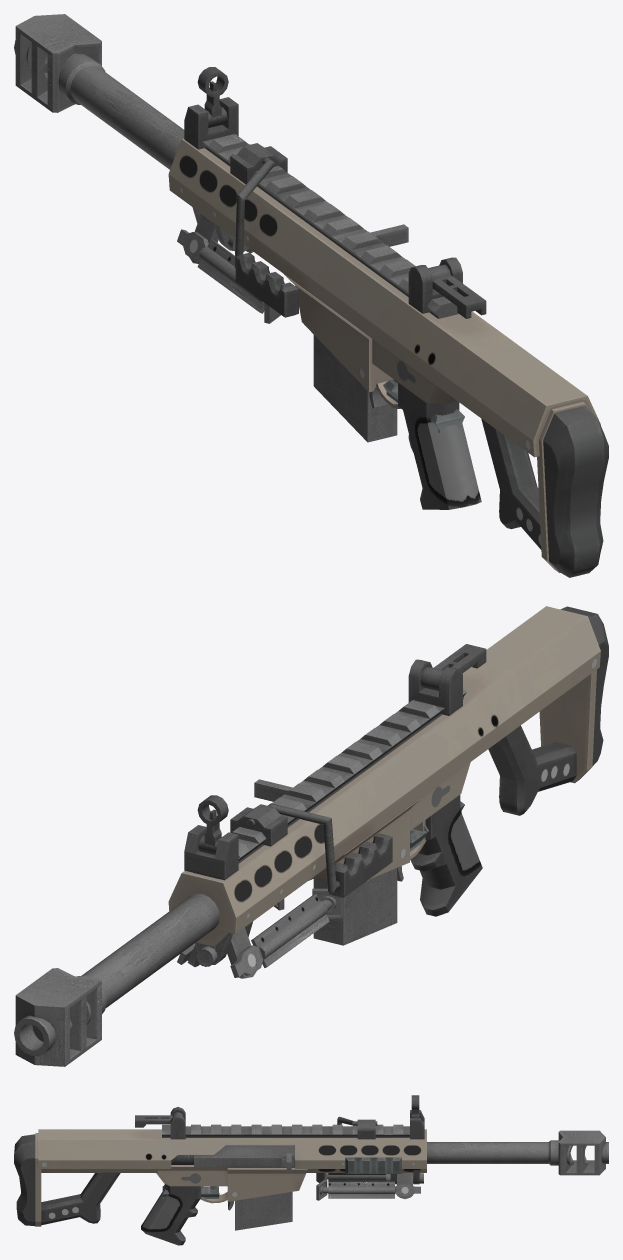
File: IG_Gun_Balett.fbx
3 renders of one model, top to bottom at view 1: azimuth 30°, elevation 25°; view 2: azimuth 150°, elevation 25°; view 3: azimuth 270°, elevation 25°, orthographic. The views are drawn at different scales.
Parts seen in each view (by area): view 1: WPN_BarrettM1892, HideIf_Muzzle; view 2: WPN_BarrettM1892, HideIf_Muzzle; view 3: WPN_BarrettM1892, HideIf_Muzzle, ShowIf_Tec, WPN_Slideway.
Part boxes in pixels (left/top/right/bottom): WPN_BarrettM1892: left=58, top=53, right=608, bottom=577; HideIf_Muzzle: left=14, top=14, right=101, bottom=112; WPN_BarrettM1892: left=70, top=606, right=608, bottom=1029; HideIf_Muzzle: left=14, top=968, right=101, bottom=1066; WPN_BarrettM1892: left=14, top=1095, right=573, bottom=1245; HideIf_Muzzle: left=558, top=1130, right=608, bottom=1175; ShowIf_Tec: left=345, top=1157, right=401, bottom=1173; WPN_Slideway: left=162, top=1185, right=218, bottom=1198.
Size of the model in its own units: 0.2352 by 0.4833 by 1.76.
